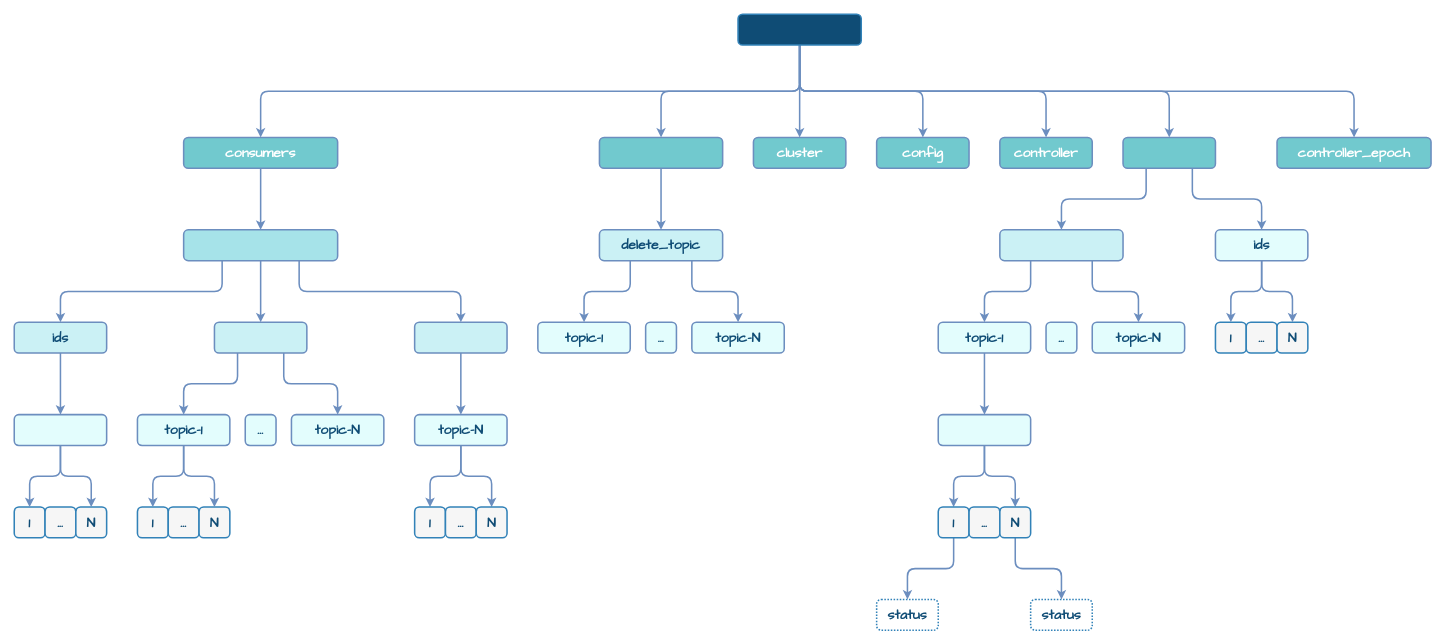
Image size: 1445x644. Some labels were removed from this diagram. Here are the shapes that lost their labels. From the top down, the centre of each, then its label:
the point at 799,29: Kafka
the point at 660,152: admin
the point at 1169,152: brokers
the point at 260,245: consumer-group
the point at 1061,245: topics
the point at 260,337: Offsets
the point at 460,337: owners
the point at 60,429: consumer.id
the point at 984,429: partitions
